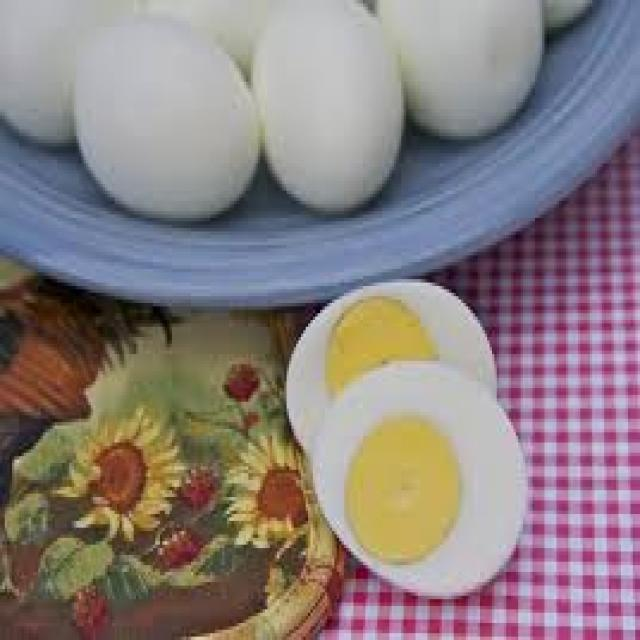boiled egg: (254, 299, 534, 640), (72, 18, 260, 221), (251, 0, 405, 214)
